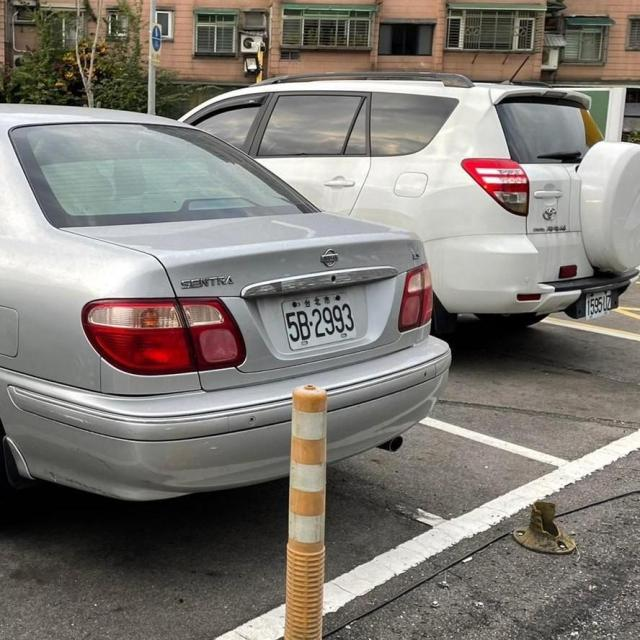W: (270, 286, 369, 352), (578, 286, 618, 321)
